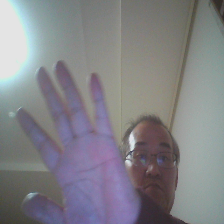hand: (9, 55, 139, 223)
